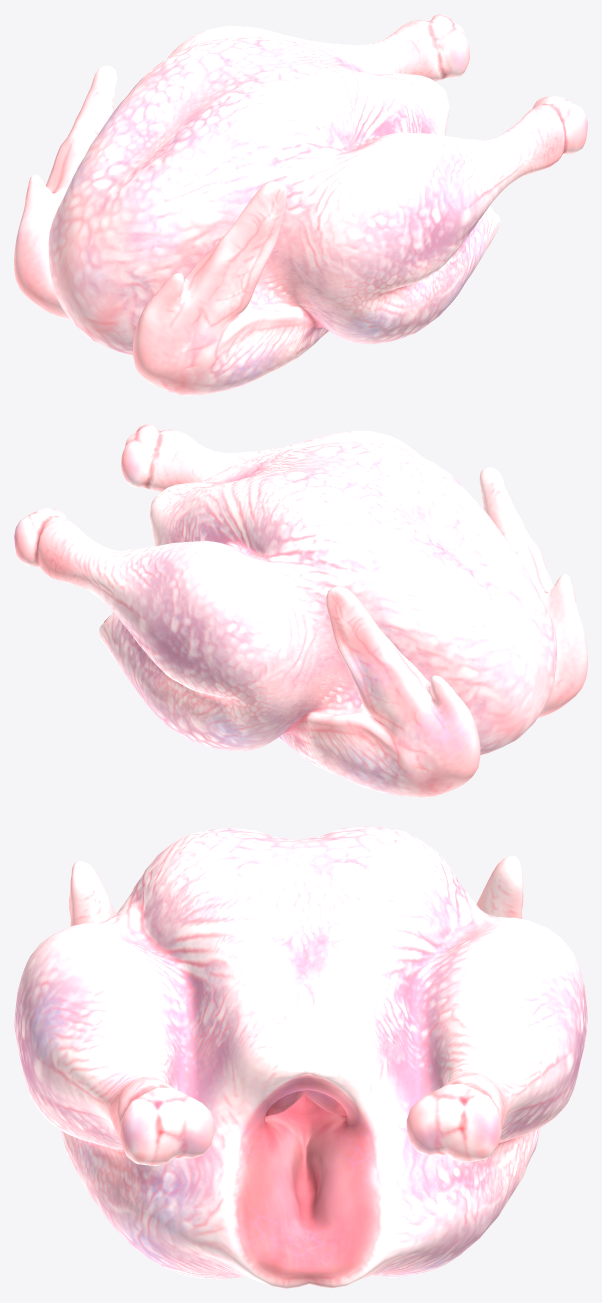
File: rawchicken.gltf
3 views of the same model, one above another, from view 1: azimuth 30°, elevation 25°; view 2: azimuth 150°, elevation 25°; view 3: azimuth 270°, elevation 25° (orthographic). The views are drawn at different scales.
Visible parts, largest first — view 1: dinde_Low:ZBrush_defualt_group_lambert1_0; view 2: dinde_Low:ZBrush_defualt_group_lambert1_0; view 3: dinde_Low:ZBrush_defualt_group_lambert1_0.
Boxes of the visible parts, x1=… form: dinde_Low:ZBrush_defualt_group_lambert1_0: x1=14, y1=14, x2=587, y2=395; dinde_Low:ZBrush_defualt_group_lambert1_0: x1=14, y1=424, x2=587, y2=797; dinde_Low:ZBrush_defualt_group_lambert1_0: x1=14, y1=826, x2=587, y2=1288.
Size of the model in its own units: 6.75 by 3.78 by 5.36.
1 material, 1 textured.
